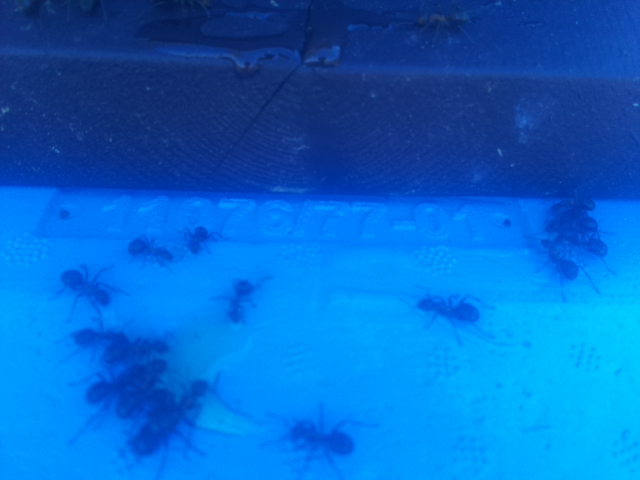ant: (55, 262, 114, 308), (223, 275, 261, 327)
